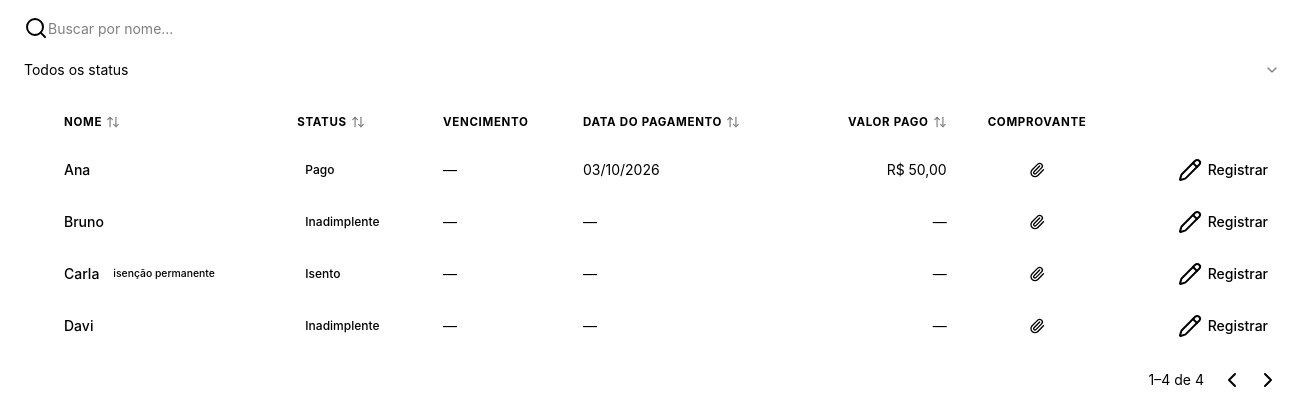
Test: <CobrancaMensal /> › filtra por nome
Type "bru" into the field labelled "Buscar por nome" at (652, 28), box [12,12,1292,44]
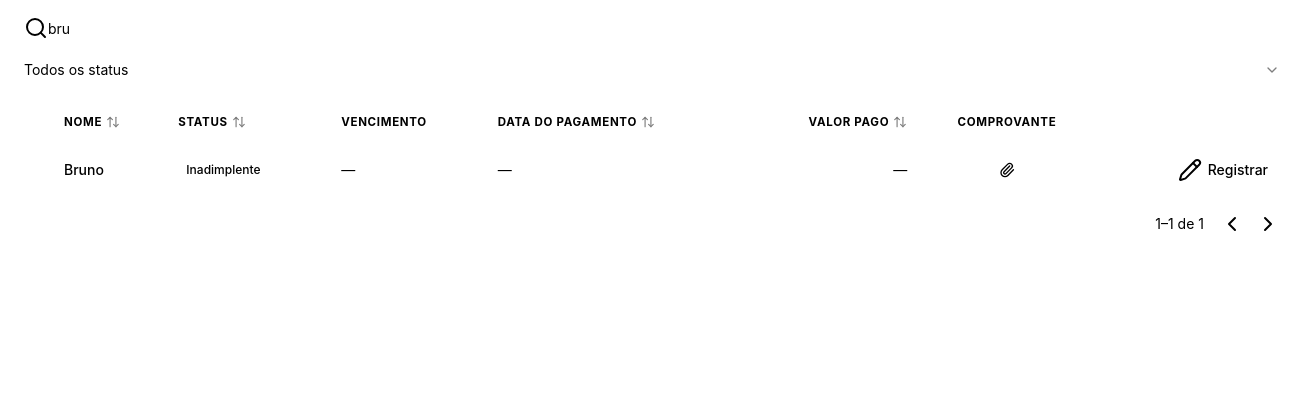
expect the text "Bruno" is shown: met, box [64,160,104,180]
expect the text "Ana" is gone: met
